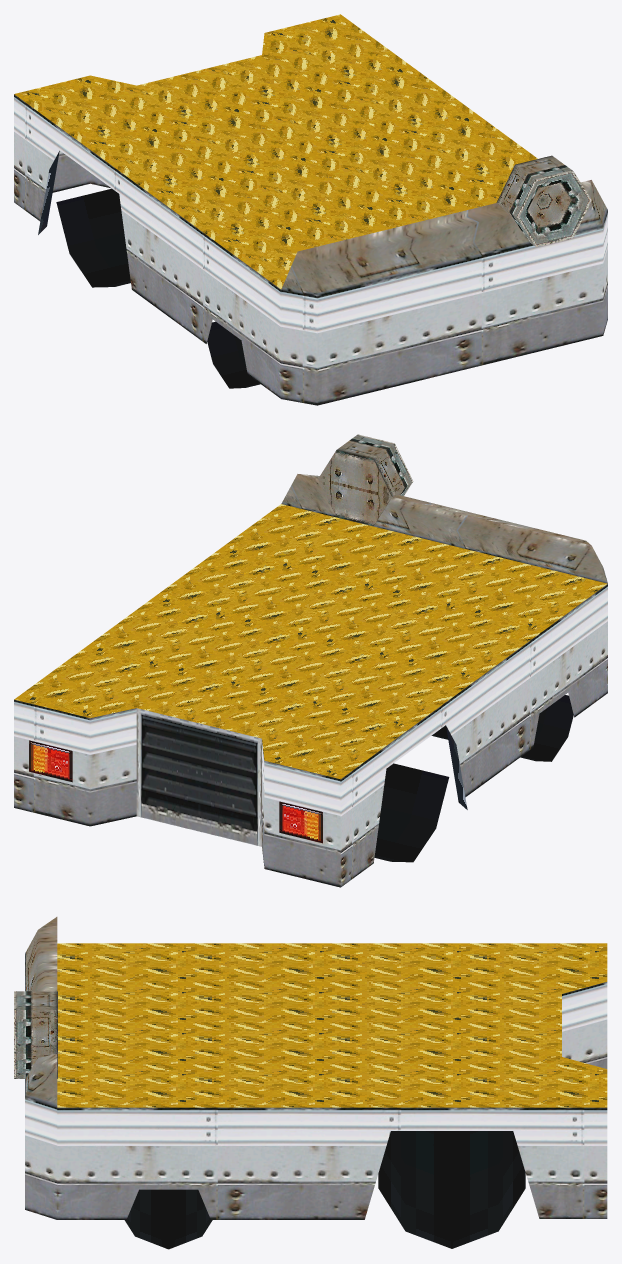
File: YellowMovingPlatform.obj
The picture shows the model from 3 angles, top to bottom: view 1: azimuth 30°, elevation 25°; view 2: azimuth 150°, elevation 25°; view 3: azimuth 270°, elevation 25°; orthographic projection. The views are drawn at different scales.
Bounding box in the file's own units: 33 × 18.15 × 45.9.
6 materials, 6 textured.
